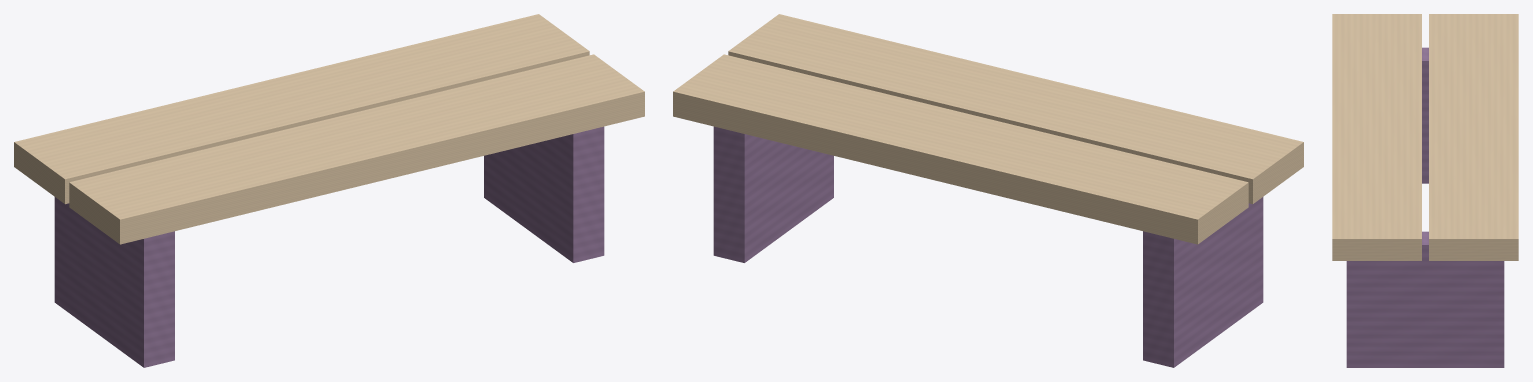
File: atlas100-papercraft-util03.lod1.glb
The picture shows the model from 3 angles, left to right: view 1: azimuth 30°, elevation 25°; view 2: azimuth 150°, elevation 25°; view 3: azimuth 270°, elevation 25°; orthographic projection. The views are drawn at different scales.
Visible parts, largest first — view 1: atlas100-papercraft-util03:part-004, atlas100-papercraft-util03:part-002, atlas100-papercraft-util03:part-000, atlas100-papercraft-util03:part-001; view 2: atlas100-papercraft-util03:part-002, atlas100-papercraft-util03:part-004, atlas100-papercraft-util03:part-000, atlas100-papercraft-util03:part-001; view 3: atlas100-papercraft-util03:part-002, atlas100-papercraft-util03:part-004, atlas100-papercraft-util03:part-001, atlas100-papercraft-util03:part-000.
Part boxes in pixels (box(x1,y1,x2,y2)): atlas100-papercraft-util03:part-004: box(69, 54, 644, 244); atlas100-papercraft-util03:part-002: box(14, 14, 589, 204); atlas100-papercraft-util03:part-000: box(54, 197, 174, 367); atlas100-papercraft-util03:part-001: box(484, 126, 604, 262); atlas100-papercraft-util03:part-002: box(673, 54, 1248, 244); atlas100-papercraft-util03:part-004: box(728, 14, 1303, 204); atlas100-papercraft-util03:part-000: box(1143, 197, 1263, 367); atlas100-papercraft-util03:part-001: box(713, 126, 833, 262); atlas100-papercraft-util03:part-002: box(1429, 14, 1518, 260); atlas100-papercraft-util03:part-004: box(1332, 14, 1421, 260); atlas100-papercraft-util03:part-001: box(1346, 231, 1504, 367); atlas100-papercraft-util03:part-000: box(1422, 47, 1428, 183).
Bounding box in the file's own units: 2.5 × 0.7397 × 0.8763.
Materials: 2 (2 with a texture image).
